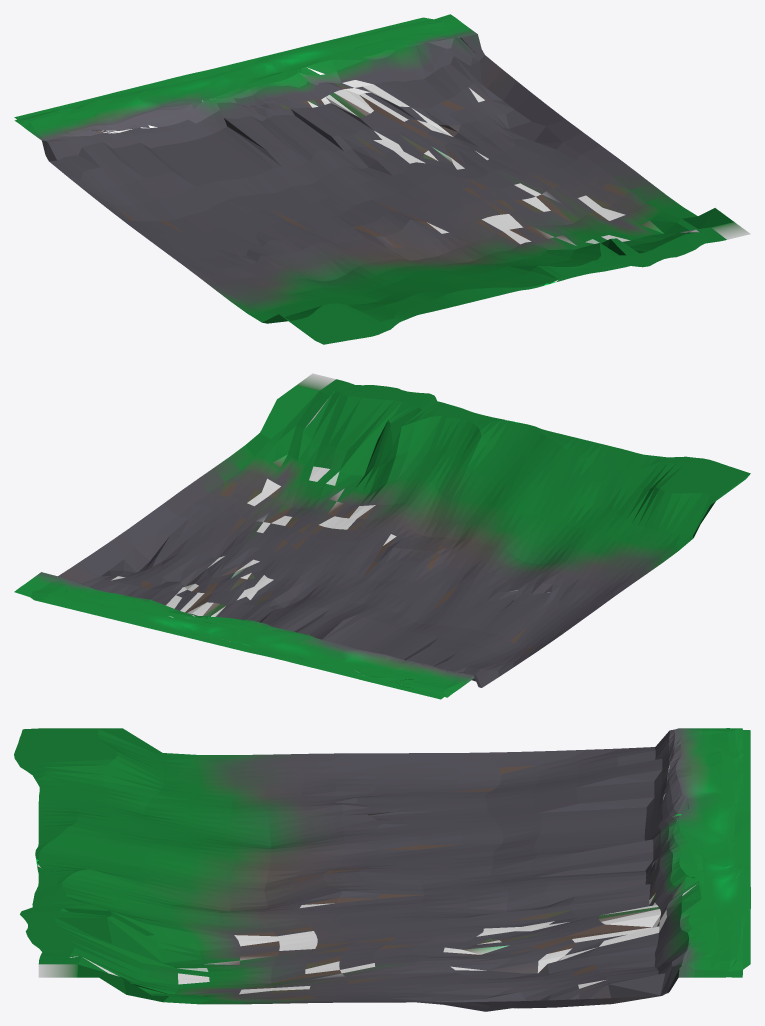
The model's file is GROUND.fbx.
The picture shows the model from 3 angles, top to bottom: view 1: azimuth 30°, elevation 25°; view 2: azimuth 150°, elevation 25°; view 3: azimuth 270°, elevation 25°; orthographic projection. The views are drawn at different scales.
Parts seen in each view (by area): view 1: Plane.000; view 2: Plane.000; view 3: Plane.000.
Part boxes in pixels (<box>): Plane.000: <box>14,14,750,344</box>; Plane.000: <box>14,373,750,699</box>; Plane.000: <box>14,728,750,1011</box>.
Size of the model in its own units: 19951 by 1955 by 24925.
